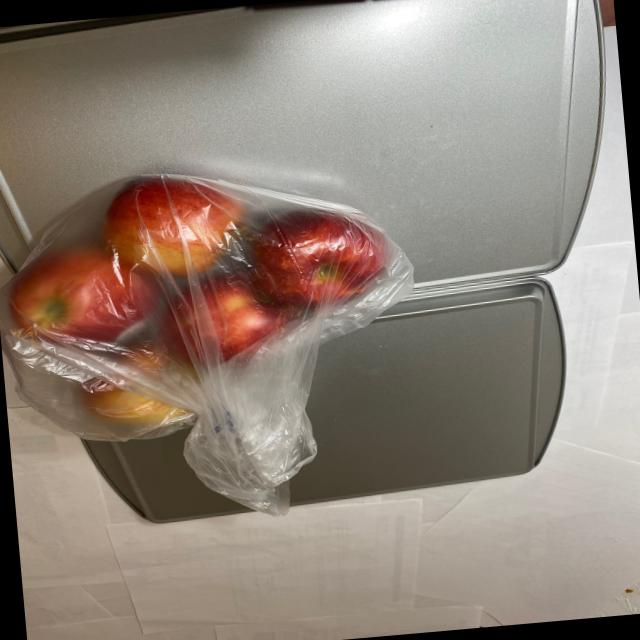apple: (0, 146, 411, 483)
